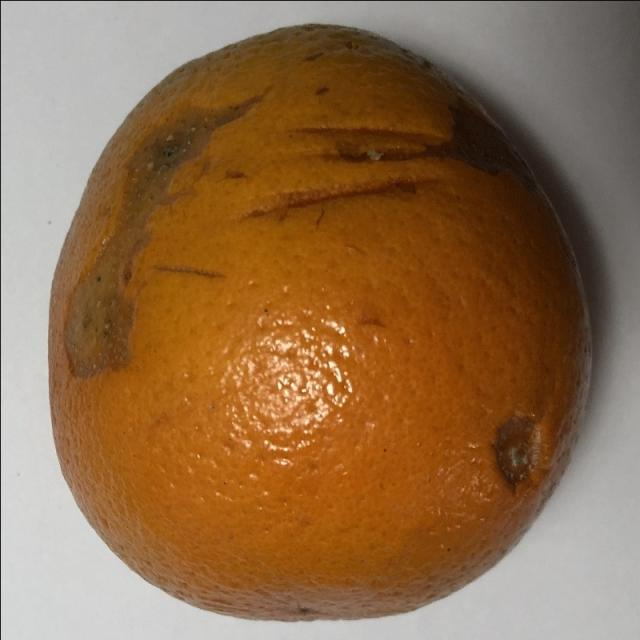canker: (4, 6, 635, 635)
